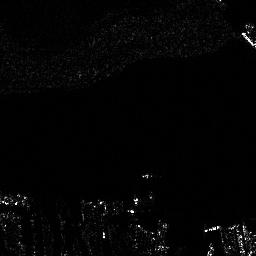ship: (242, 30, 256, 48)
